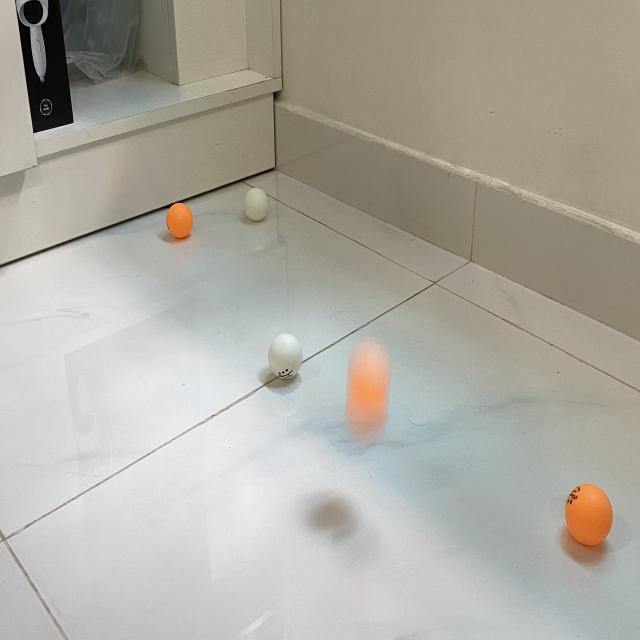ping-pong-ball: (348, 352, 390, 436), (566, 485, 613, 546), (268, 332, 304, 378), (167, 204, 194, 238), (244, 188, 270, 221)
